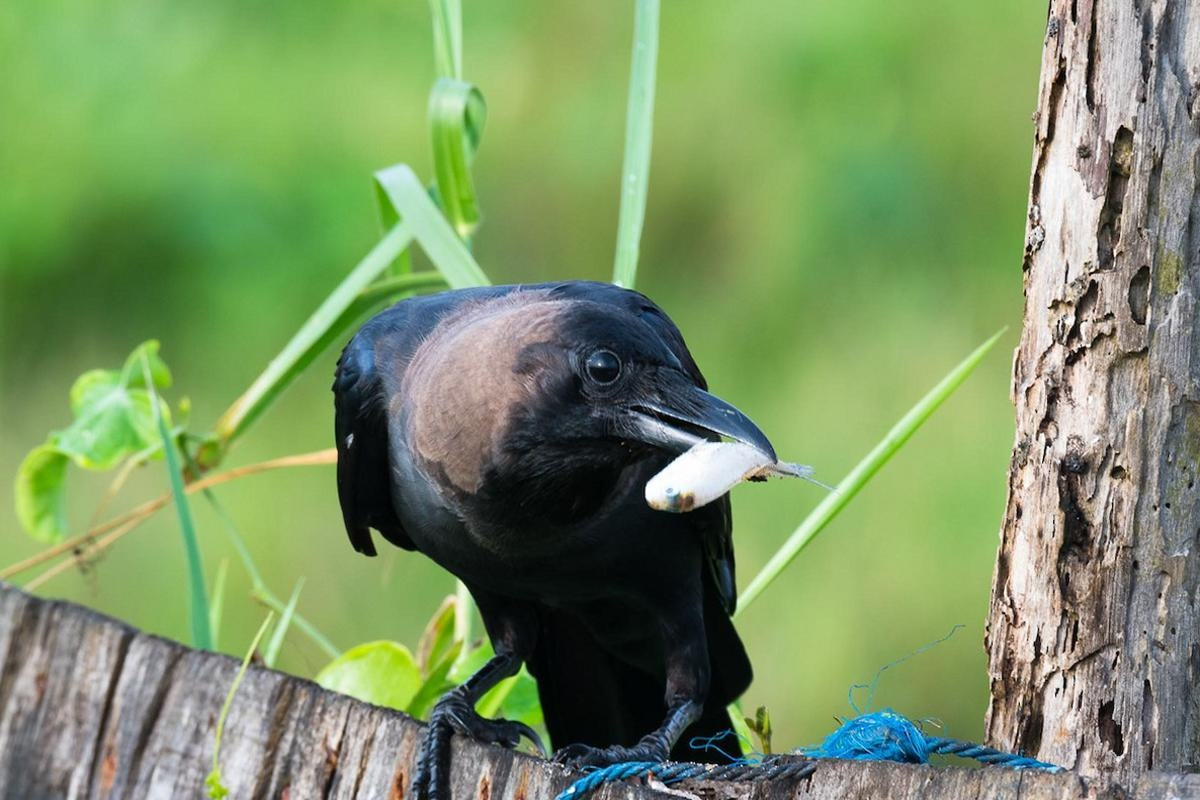crow: (335, 247, 796, 771)
